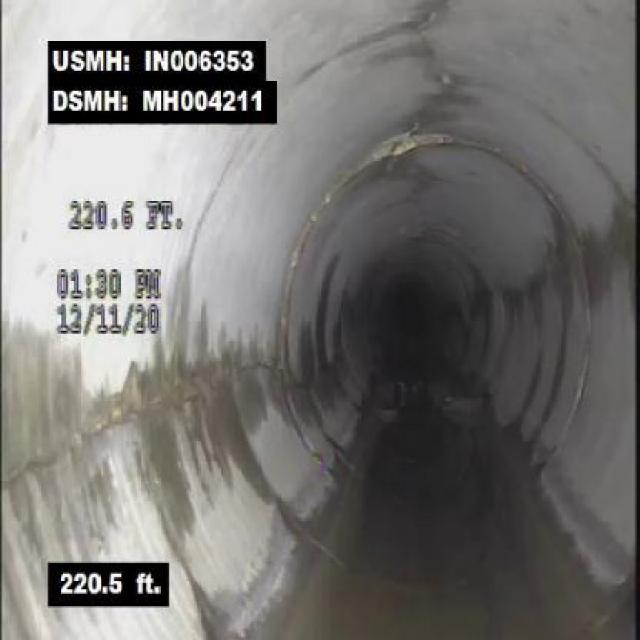Crack: (6, 392, 162, 491), (161, 360, 257, 406), (412, 6, 442, 51)
Joint offset: (369, 128, 449, 166)
